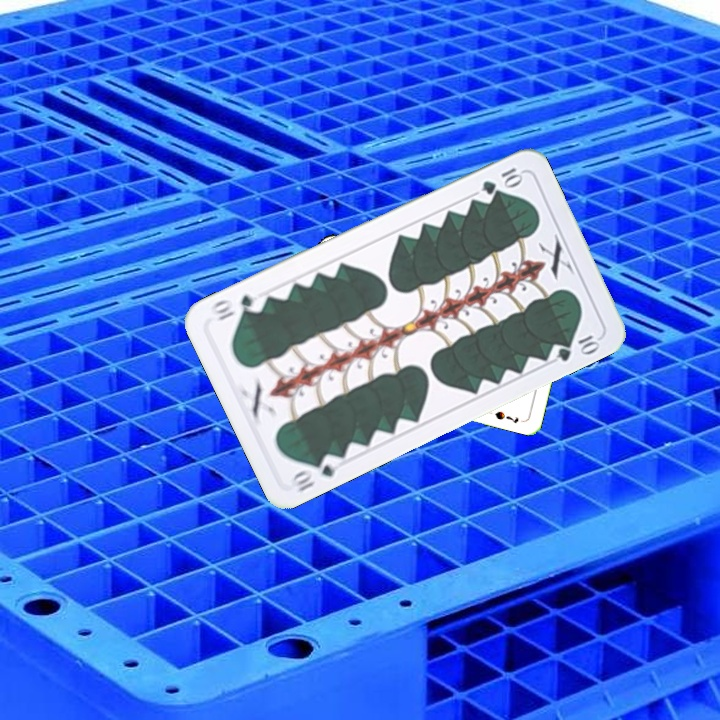G10: (288, 450, 339, 495), (477, 163, 526, 197)
